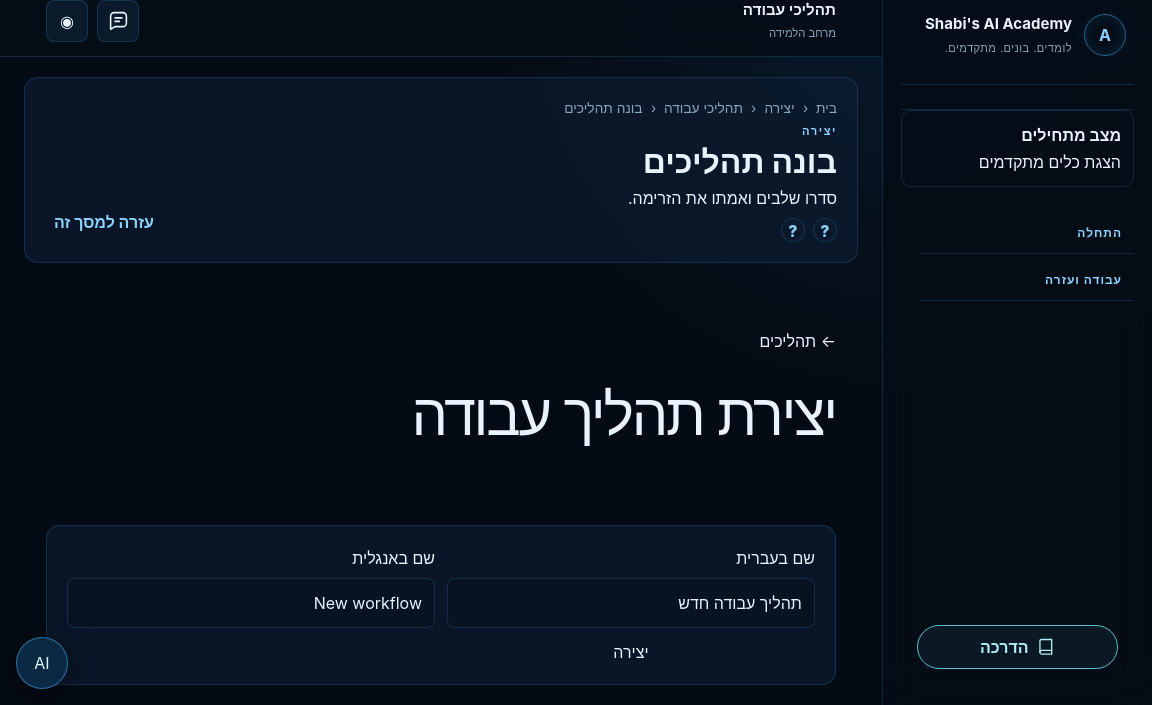
Test case: Version 2.0 Outcome experience — Workflow › creates a workflow from /workflows/new and immediately shows the builder, not a stale 'not found' state
Click the button "יצירה": (631, 652) [447,640,815,664]
(page scrolled)
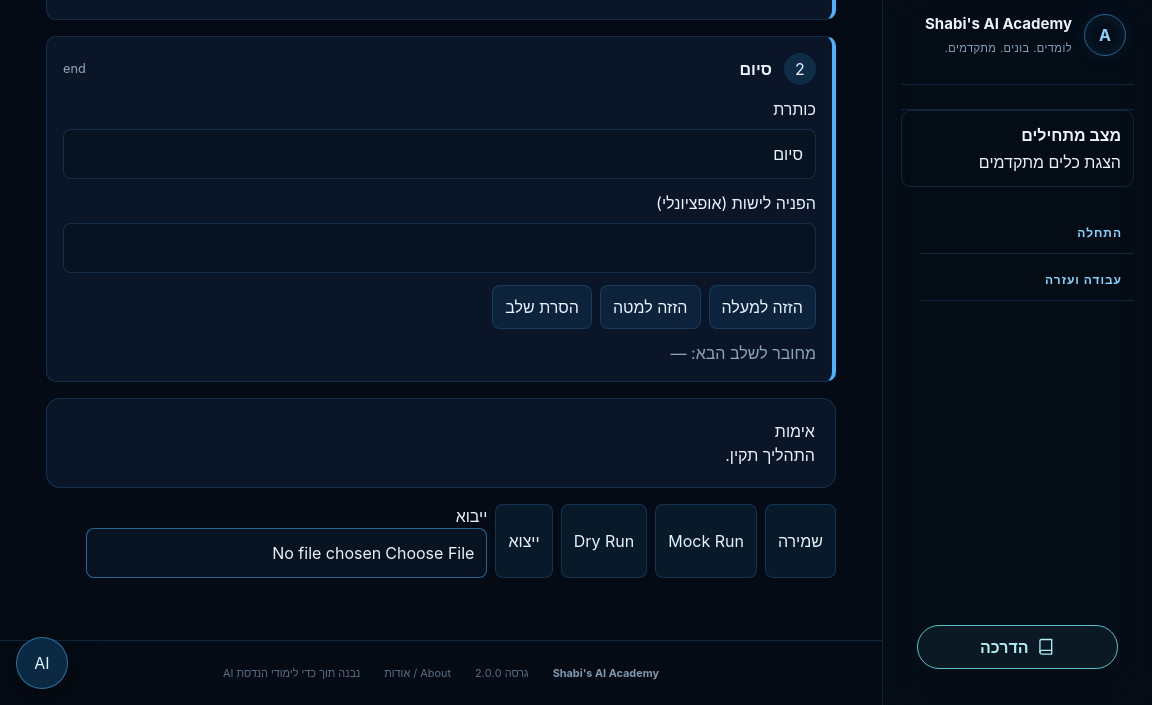
Expected: the button "Mock Run" is shown, [655,504,757,578]
